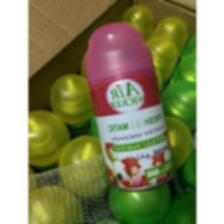aerosol_cans: (80, 17, 183, 192)
